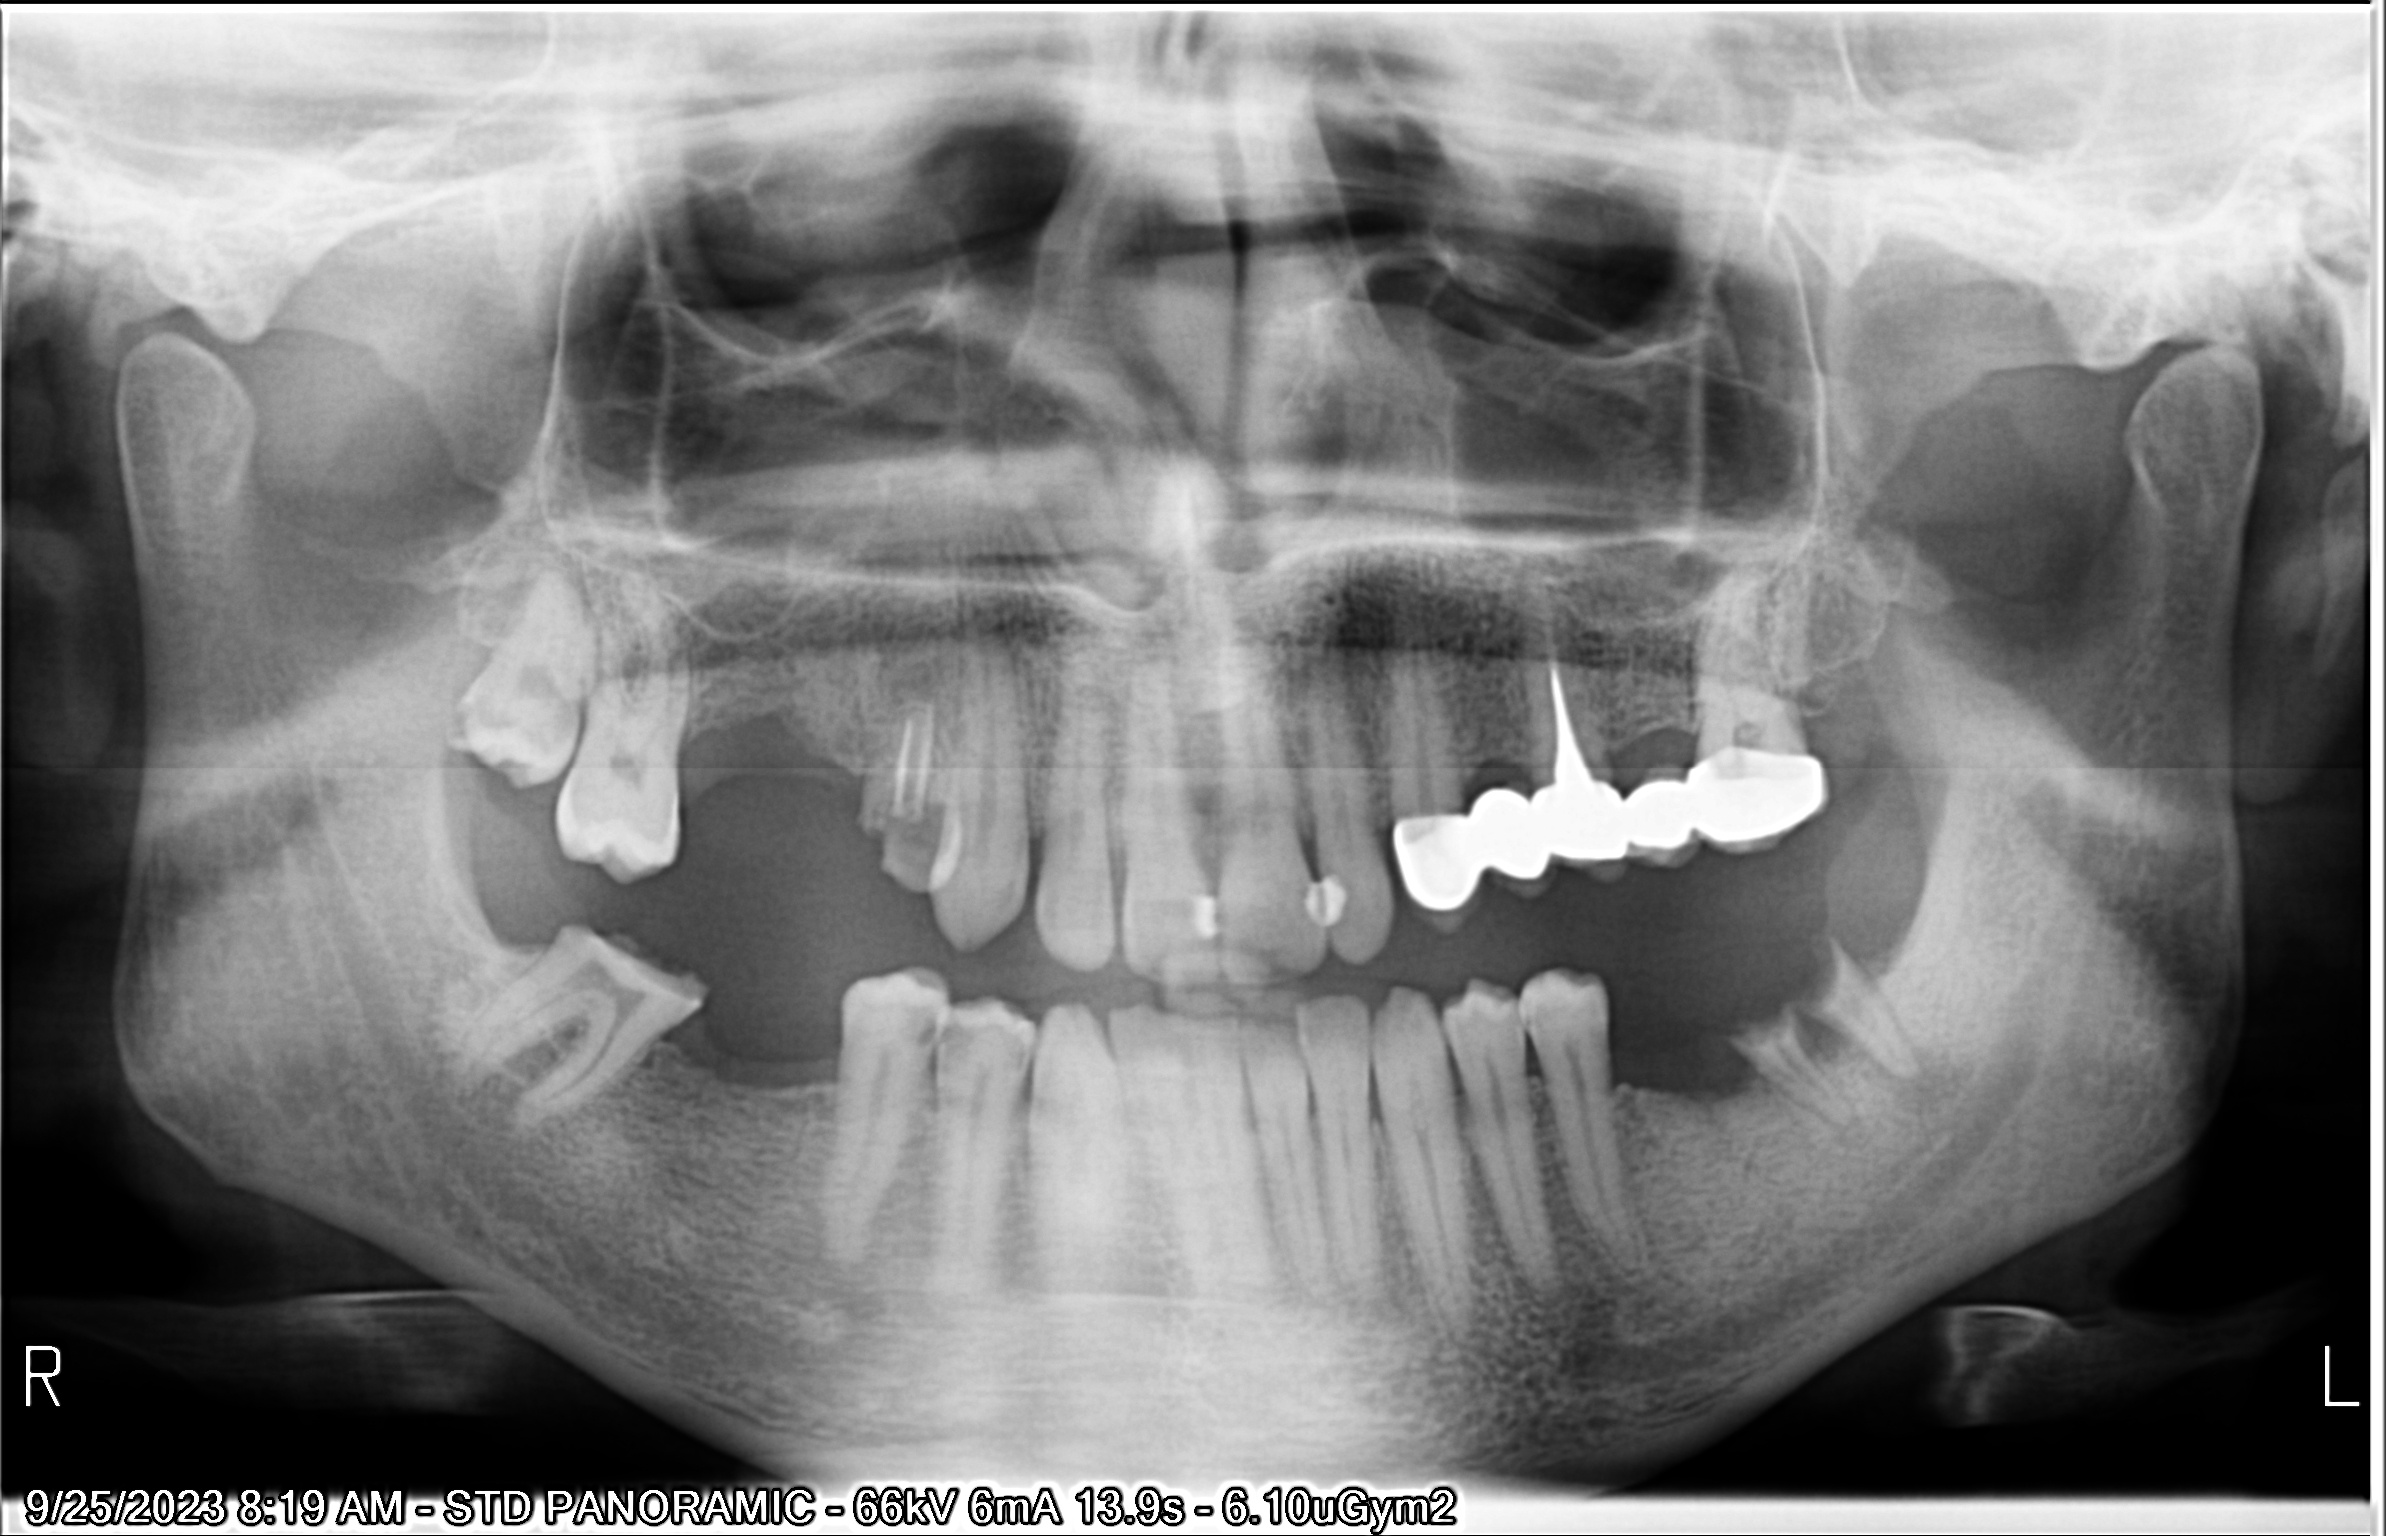API: (901, 463, 2386, 1536), (863, 515, 2386, 1536)
CAR: (431, 475, 1419, 1536), (416, 464, 1376, 1526), (367, 325, 1334, 1230), (193, 391, 910, 1416)
END: (737, 202, 2316, 978), (397, 280, 1346, 1105)
OBT: (442, 270, 2311, 1193), (631, 395, 1993, 1327), (612, 393, 1946, 1332), (543, 393, 1779, 1343)
ROT: (765, 447, 2386, 1536), (805, 412, 2386, 1499)
